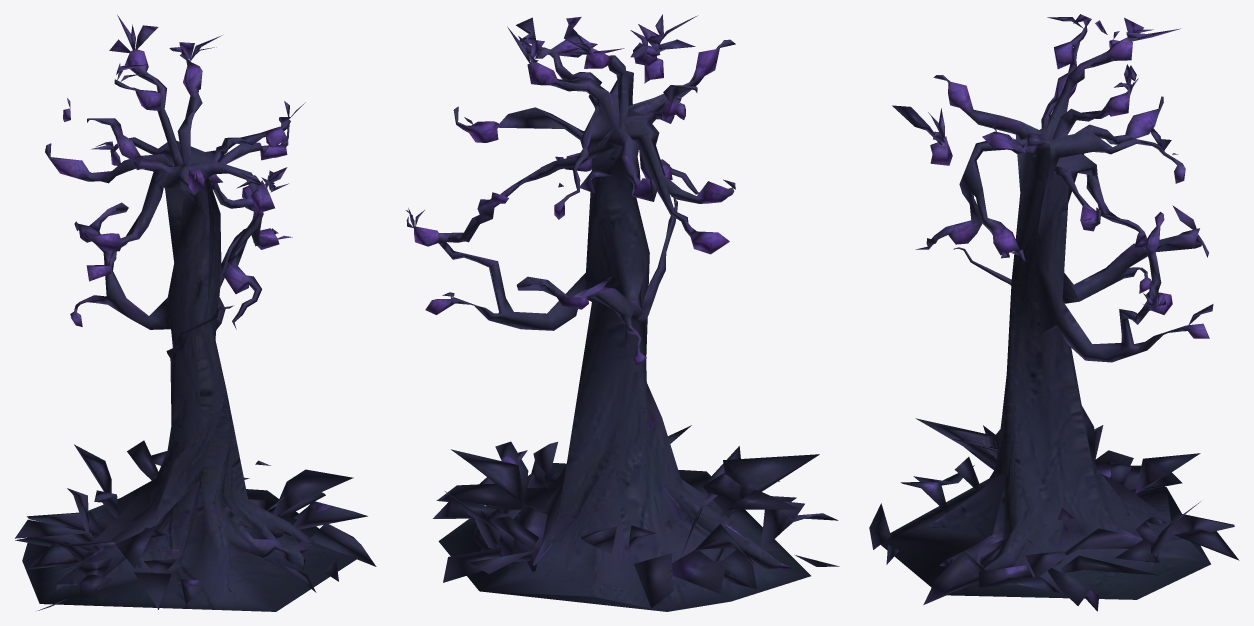
Rendered from l_tree_jungle.glb.
3 renders of one model, left to right at view 1: azimuth 30°, elevation 25°; view 2: azimuth 150°, elevation 25°; view 3: azimuth 270°, elevation 25°, orthographic. The views are drawn at different scales.
Size of the model in its own units: 0.6504 by 0.9189 by 0.6001.
1 material, 1 textured.
